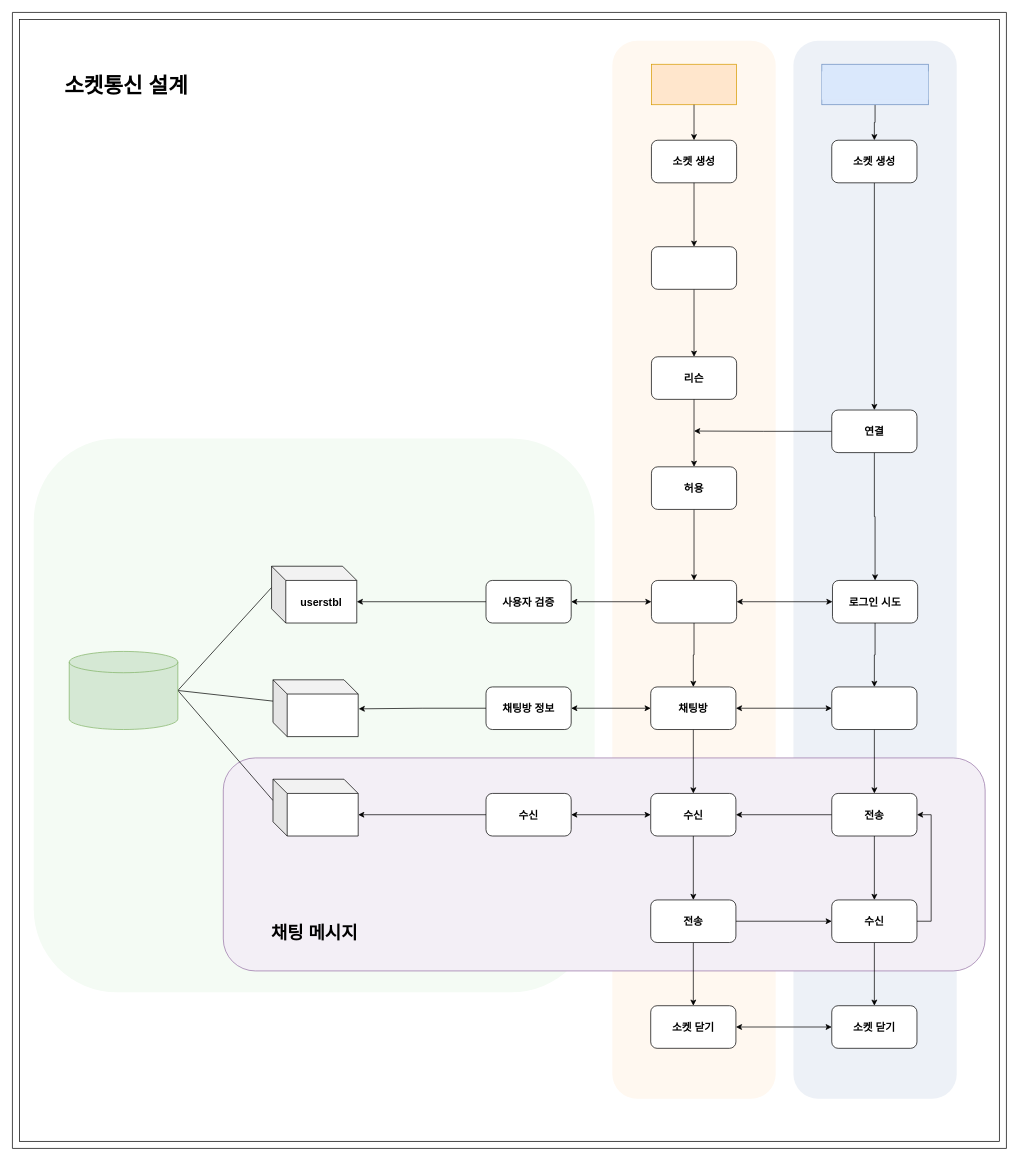
The diagram is 1019 pixels wide and 1161 high, and some of its shapes have lost their labels. Each missing label, with the centre of its shape:
DB: point (123, 690)
messagestbl: point (315, 807)
roomstbl: point (315, 708)
로그인: point (694, 601)
바인드: point (694, 267)
서버: point (694, 84)
채팅방 생성: point (874, 708)
클라이언트: point (874, 85)
